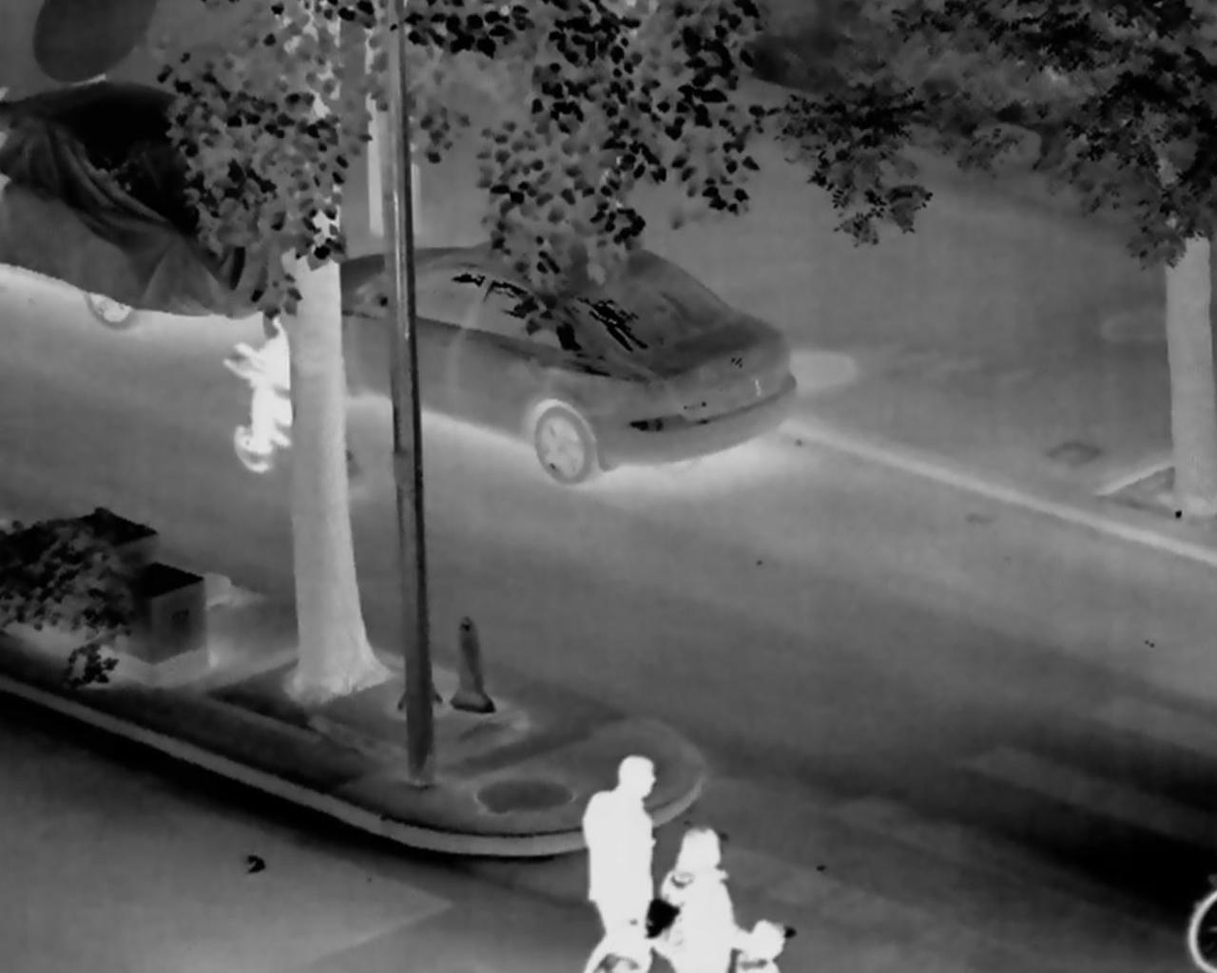person: (582, 754, 656, 967), (651, 827, 749, 973), (248, 316, 321, 457), (738, 914, 783, 973)
